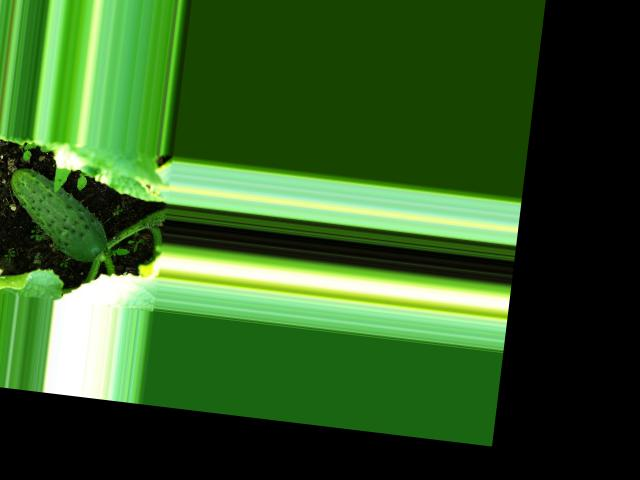cucumber: (2, 166, 115, 264)
